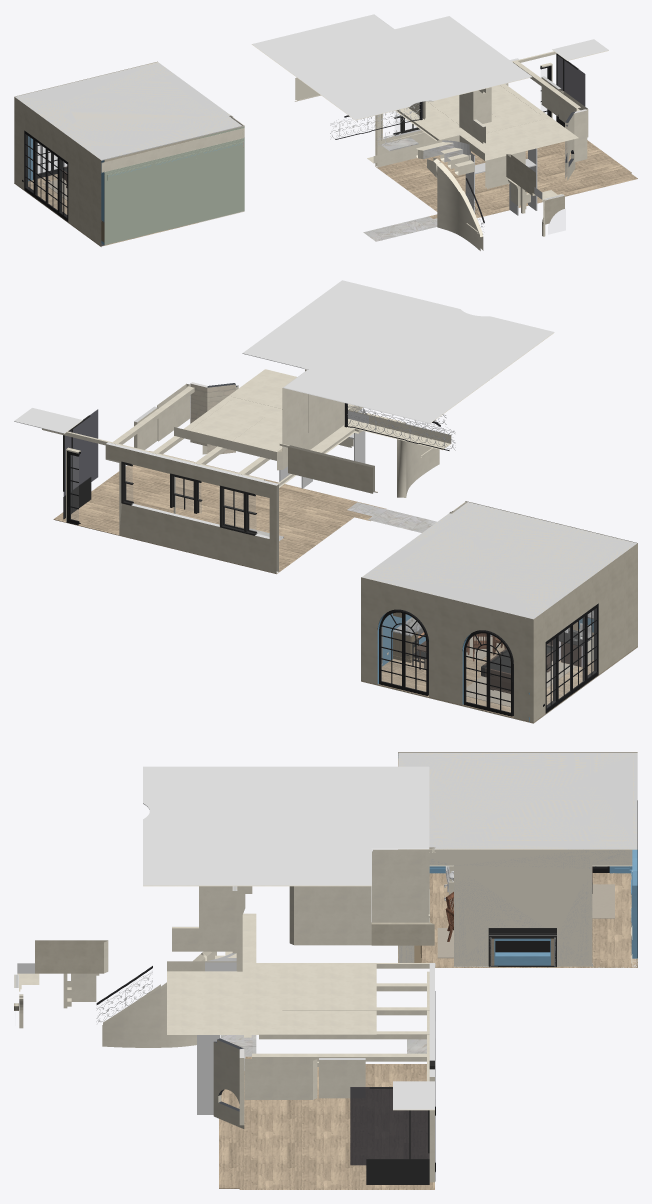
The model's file is game-room-f18ec92bc7f6.glb.
3 renders of one model, top to bottom at view 1: azimuth 30°, elevation 25°; view 2: azimuth 150°, elevation 25°; view 3: azimuth 270°, elevation 25°, orthographic. The views are drawn at different scales.
Visible parts, largest first — view 1: game-room-look-9d91b47435c6fb33, game-room-4a969f5cc1ae3dfe, game-room-30c5953c9ad73e5d, game-room-look-3b0077416469e01b, game-room-look-2575515a05775d9e, game-room-039192b0560cfac3, game-room-50d54560d247b537, game-room-look-8c6a7019fd0063e7, game-room-2575515a05775d9e, game-room-f4800b31bfeb29e4, game-room-look-bfb9fa537cd11d1d, game-room-look-cbd4bf73d9724a66 (+19 smaller); view 2: game-room-look-9d91b47435c6fb33, game-room-4a969f5cc1ae3dfe, game-room-look-3b0077416469e01b, game-room-969b861f9850351e, game-room-look-bfb9fa537cd11d1d, game-room-039192b0560cfac3, game-room-look-2575515a05775d9e, game-room-50d54560d247b537, game-room-3b0077416469e01b, game-room-look-245f595ae2832e16, game-room-ebdc05650cf31826, game-room-ca241f91fd698c40 (+23 smaller); view 3: game-room-look-9d91b47435c6fb33, game-room-4a969f5cc1ae3dfe, game-room-look-3b0077416469e01b, game-room-3e6709f91b43c3bf, game-room-look-2575515a05775d9e, game-room-50d54560d247b537, game-room-look-69af8f587252f9fa, game-room-look-cbd4bf73d9724a66, game-room-3b0077416469e01b, game-room-look-32b959c9aa406288, game-room-look-8c6a7019fd0063e7, game-room-look-c51ecd664a3b22a3 (+22 smaller).
Boxes of the visible parts, x1=… form: game-room-look-9d91b47435c6fb33: x1=251, y1=14, x2=531, y2=120; game-room-4a969f5cc1ae3dfe: x1=14, y1=62, x2=242, y2=160; game-room-30c5953c9ad73e5d: x1=104, y1=126, x2=244, y2=245; game-room-look-3b0077416469e01b: x1=375, y1=140, x2=637, y2=218; game-room-look-2575515a05775d9e: x1=367, y1=84, x2=578, y2=163; game-room-039192b0560cfac3: x1=14, y1=97, x2=104, y2=246; game-room-50d54560d247b537: x1=14, y1=61, x2=243, y2=160; game-room-look-8c6a7019fd0063e7: x1=427, y1=157, x2=483, y2=250; game-room-2575515a05775d9e: x1=101, y1=128, x2=244, y2=172; game-room-f4800b31bfeb29e4: x1=24, y1=130, x2=68, y2=221; game-room-look-bfb9fa537cd11d1d: x1=375, y1=58, x2=518, y2=167; game-room-look-cbd4bf73d9724a66: x1=557, y1=55, x2=585, y2=106; game-room-look-9d91b47435c6fb33: x1=242, y1=280, x2=554, y2=423; game-room-4a969f5cc1ae3dfe: x1=361, y1=502, x2=637, y2=619; game-room-look-3b0077416469e01b: x1=53, y1=451, x2=386, y2=574; game-room-969b861f9850351e: x1=361, y1=578, x2=529, y2=721; game-room-look-bfb9fa537cd11d1d: x1=105, y1=442, x2=278, y2=573; game-room-039192b0560cfac3: x1=529, y1=544, x2=637, y2=722; game-room-look-2575515a05775d9e: x1=174, y1=369, x2=451, y2=460; game-room-50d54560d247b537: x1=361, y1=502, x2=637, y2=619; game-room-3b0077416469e01b: x1=361, y1=644, x2=637, y2=722; game-room-look-245f595ae2832e16: x1=288, y1=445, x2=374, y2=493; game-room-ebdc05650cf31826: x1=487, y1=632, x2=512, y2=716; game-room-ca241f91fd698c40: x1=403, y1=612, x2=427, y2=695; game-room-look-9d91b47435c6fb33: x1=143, y1=766, x2=429, y2=886; game-room-4a969f5cc1ae3dfe: x1=398, y1=752, x2=637, y2=849; game-room-look-3b0077416469e01b: x1=219, y1=1056, x2=434, y2=1189; game-room-3e6709f91b43c3bf: x1=398, y1=849, x2=632, y2=966; game-room-look-2575515a05775d9e: x1=167, y1=913, x2=376, y2=1034; game-room-50d54560d247b537: x1=398, y1=752, x2=637, y2=849; game-room-look-69af8f587252f9fa: x1=289, y1=886, x2=371, y2=945; game-room-look-cbd4bf73d9724a66: x1=350, y1=1087, x2=429, y2=1165; game-room-3b0077416469e01b: x1=398, y1=873, x2=637, y2=967; game-room-look-32b959c9aa406288: x1=372, y1=849, x2=429, y2=922; game-room-look-8c6a7019fd0063e7: x1=102, y1=951, x2=216, y2=1047; game-room-look-c51ecd664a3b22a3: x1=172, y1=886, x2=236, y2=951.
Size of the model in its own units: 21.68 by 6.36 by 16.78.
70 materials, 17 textured.
